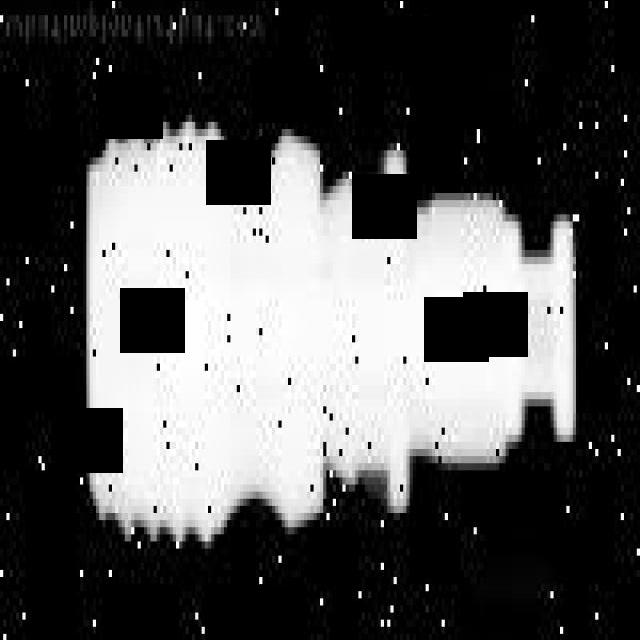Titan Implant Implant: (86, 121, 576, 540)
